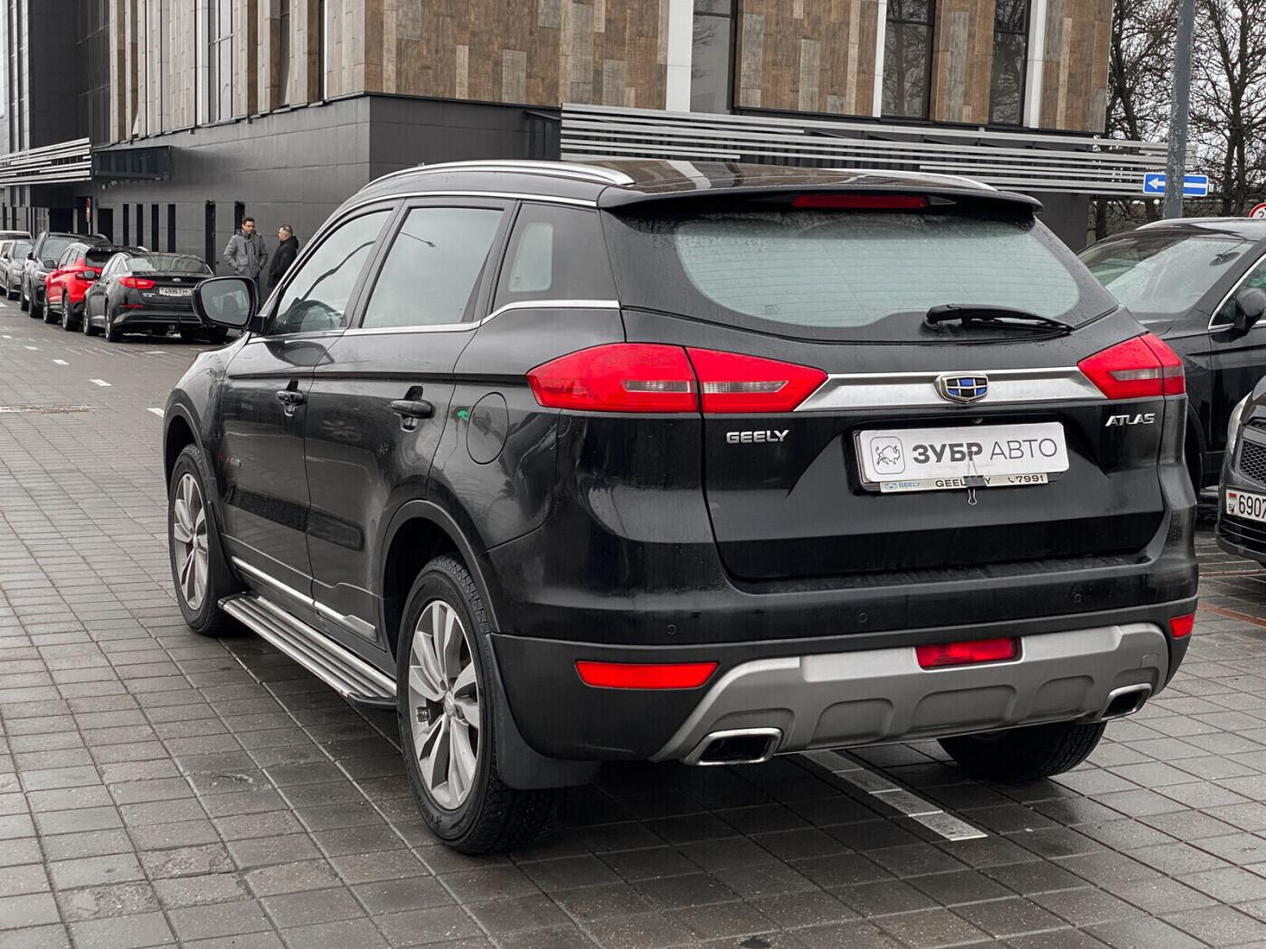Atlas_2016-2023: (154, 154, 1214, 862)
